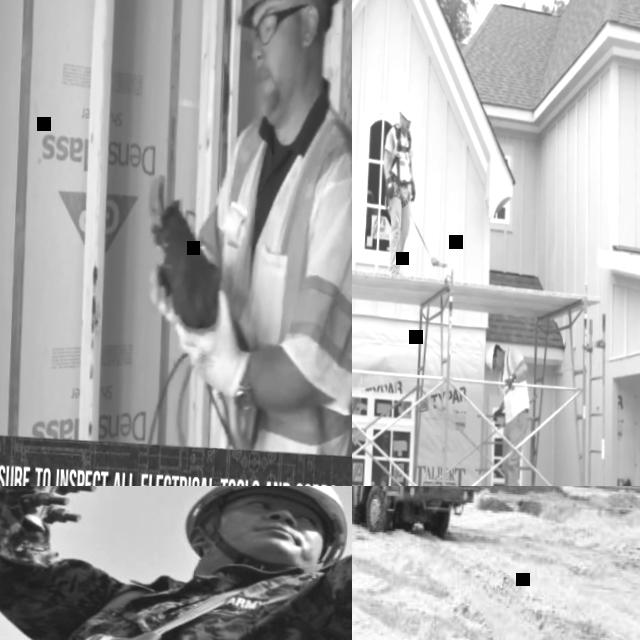Hardhat: (234, 0, 347, 33), (398, 94, 416, 120), (484, 342, 497, 371)
NO-Mask: (196, 508, 320, 555), (255, 35, 310, 123), (496, 354, 503, 372), (402, 122, 410, 131)
NO-Safety Vest: (42, 559, 283, 640)
Person: (137, 0, 352, 454), (0, 486, 352, 640), (182, 486, 352, 564), (475, 341, 533, 486), (377, 93, 421, 275)
Safety Vest: (182, 93, 352, 457), (495, 345, 533, 423), (387, 125, 413, 182)
